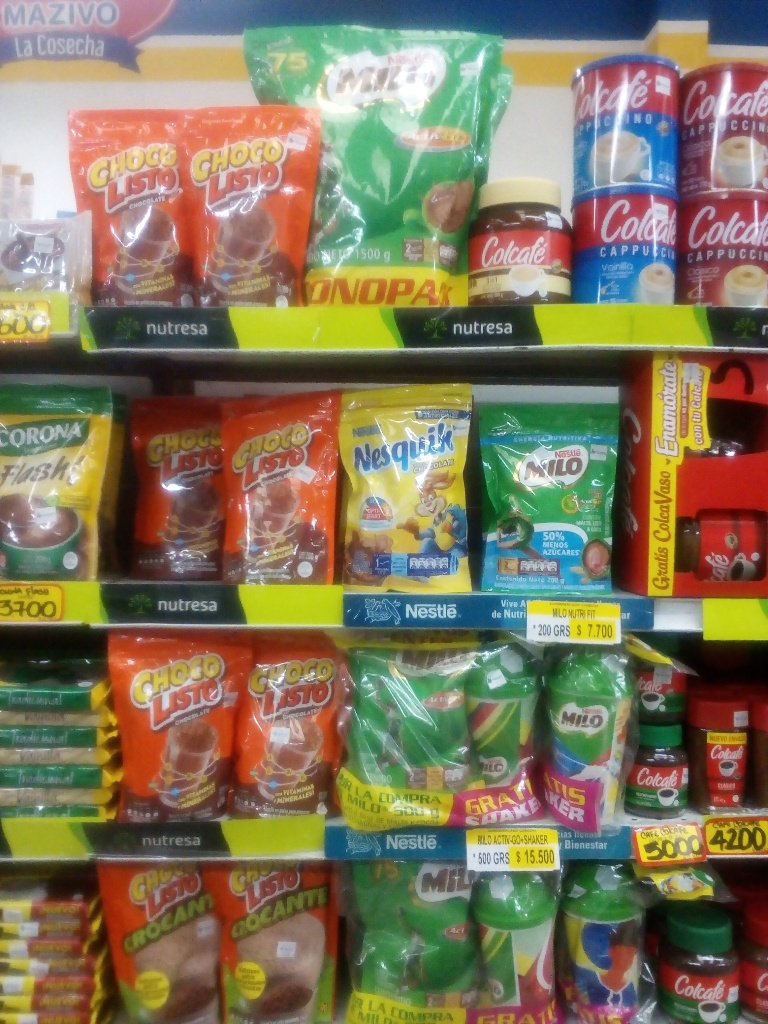COL0170102DYP50000: (99, 860, 223, 1023)
COL0170103DYP20000: (130, 397, 232, 583)
COL0170103DYP40000: (201, 108, 310, 310)
COL0170203DYP50000: (353, 643, 472, 823)
COL0170205DYP20000: (477, 403, 620, 603)
COL0170303DYP20000: (345, 392, 474, 594)
